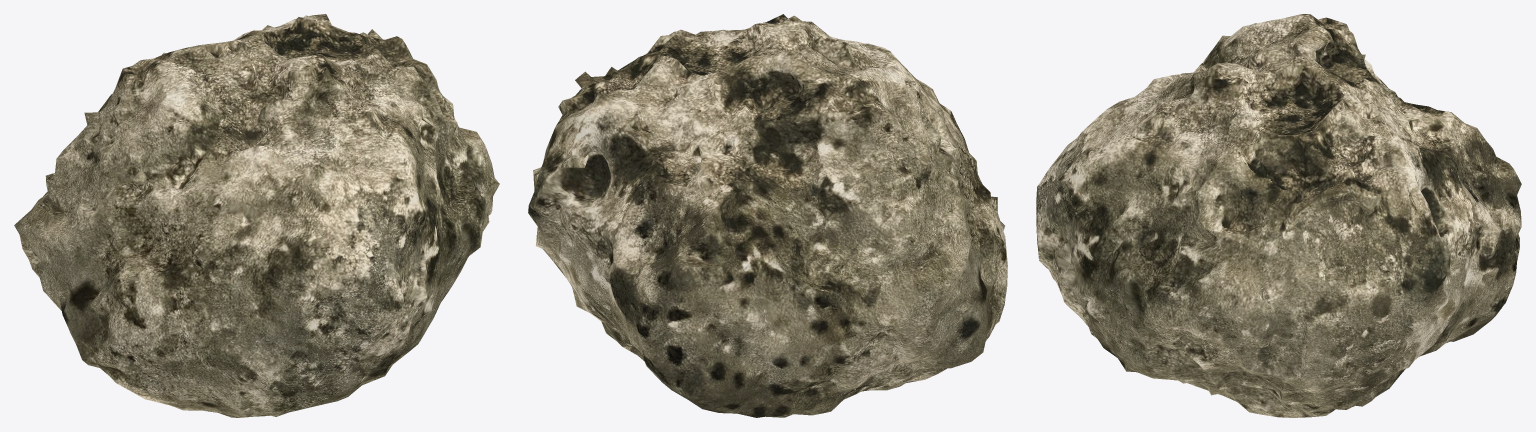
The model's file is Asteroid3.glb.
3 views of the same model, side by side, from view 1: azimuth 30°, elevation 25°; view 2: azimuth 150°, elevation 25°; view 3: azimuth 270°, elevation 25° (orthographic). The views are drawn at different scales.
Visible parts, largest first — view 1: mesh_node; view 2: mesh_node; view 3: mesh_node.
Part boxes in pixels (box(x1,y1,x2,y2)): mesh_node: box(14, 14, 499, 417); mesh_node: box(528, 14, 1007, 417); mesh_node: box(1036, 14, 1521, 417).
Size of the model in its own units: 1 by 0.7656 by 1.
1 material, 1 textured.
